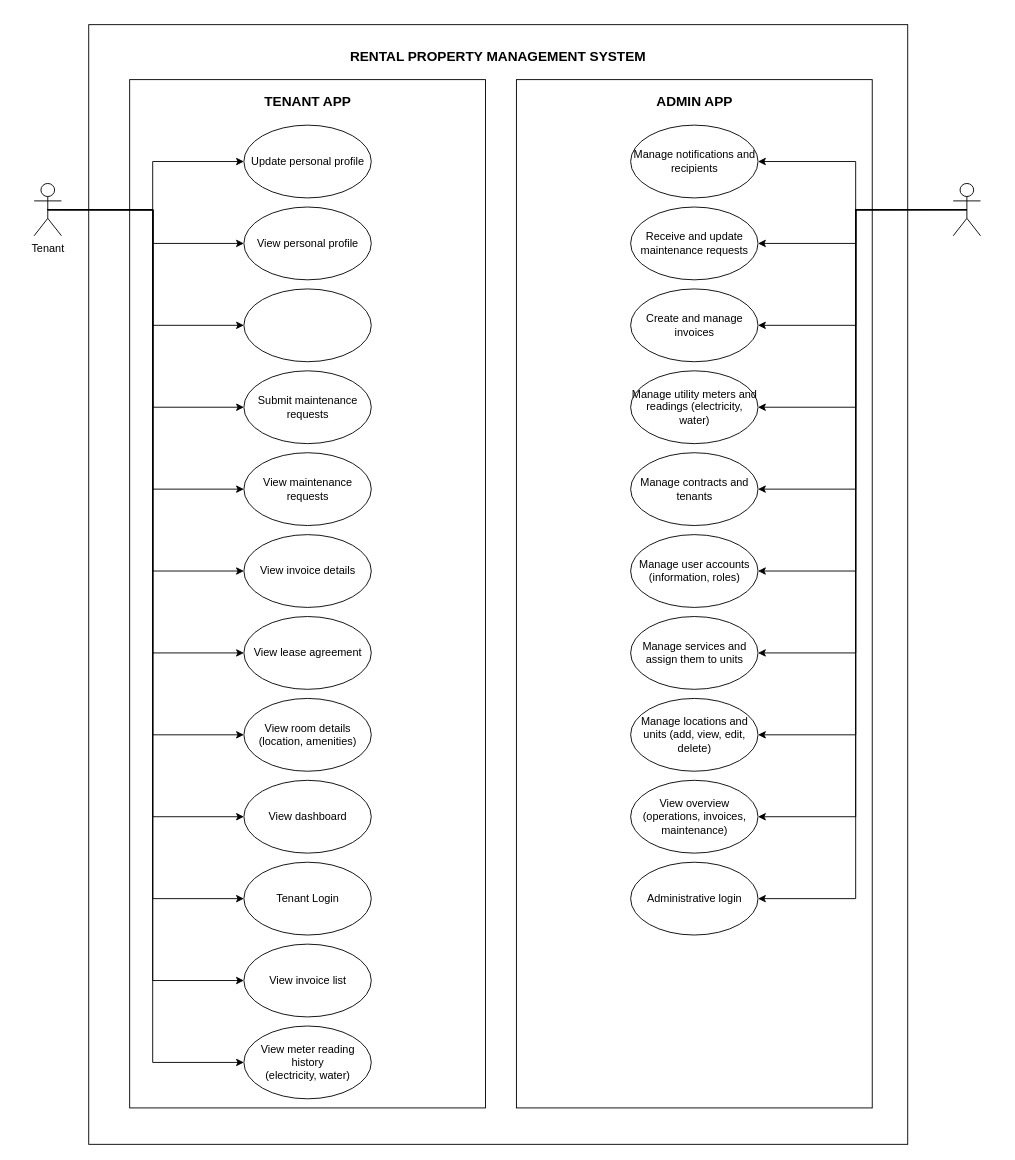
The diagram is 1015 pixels wide and 1160 high, and some of its shapes have lost their labels. Each missing label, with the box of its shape:
Administrator: (952, 183, 981, 236)
View notifications: (243, 288, 371, 362)
